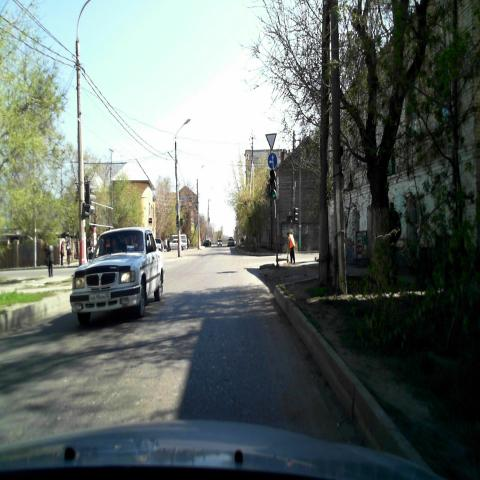4_1_5: (266, 152, 278, 170)
